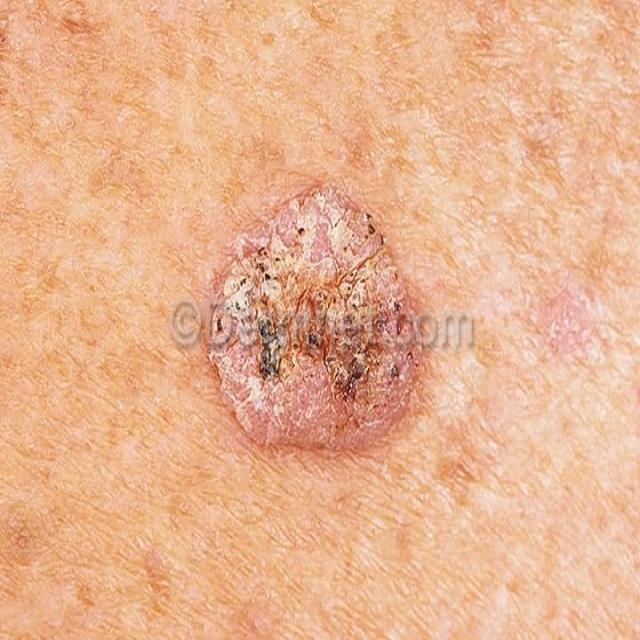Eczema: (184, 198, 424, 470)
